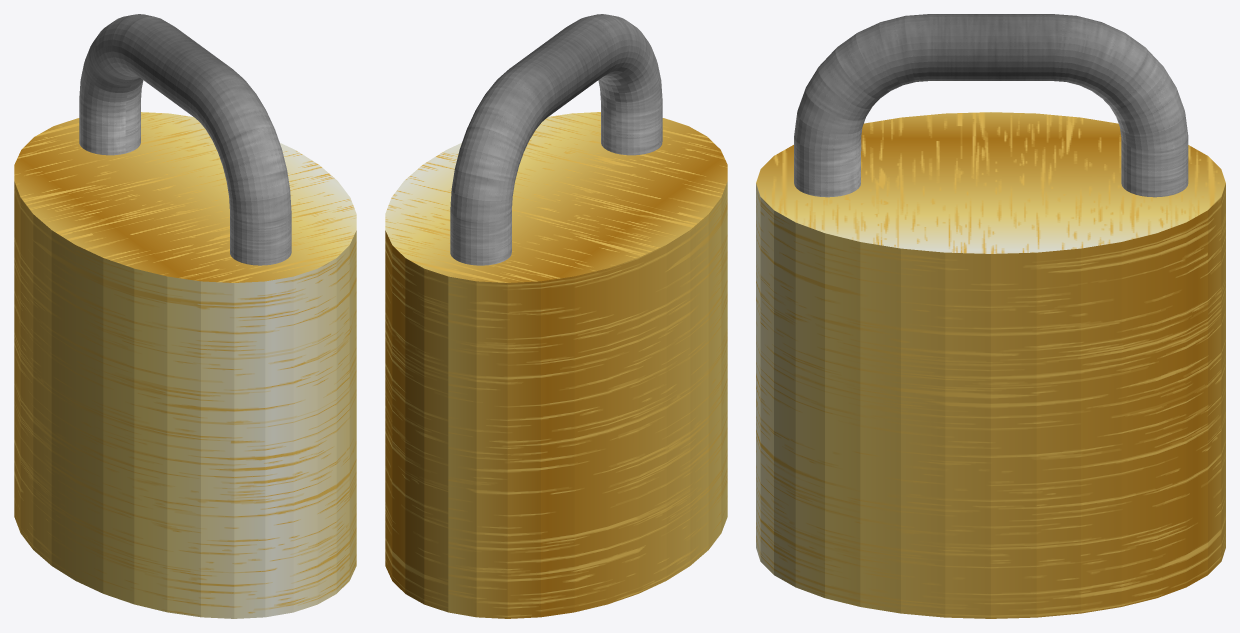
Rendered from keylock.fbx.
3 views of the same model, side by side, from view 1: azimuth 30°, elevation 25°; view 2: azimuth 150°, elevation 25°; view 3: azimuth 270°, elevation 25° (orthographic). The views are drawn at different scales.
Visible parts, largest first — view 1: 円柱, 鍵の上; view 2: 円柱, 鍵の上; view 3: 円柱, 鍵の上.
Boxes of the visible parts, bbox=[...] form: 円柱: bbox=[14, 112, 356, 618]; 鍵の上: bbox=[79, 14, 291, 265]; 円柱: bbox=[385, 112, 727, 618]; 鍵の上: bbox=[450, 14, 662, 265]; 円柱: bbox=[756, 112, 1225, 618]; 鍵の上: bbox=[794, 14, 1188, 197].
Size of the model in its own units: 112 by 195 by 156.
Materials: 2 (2 with a texture image).
